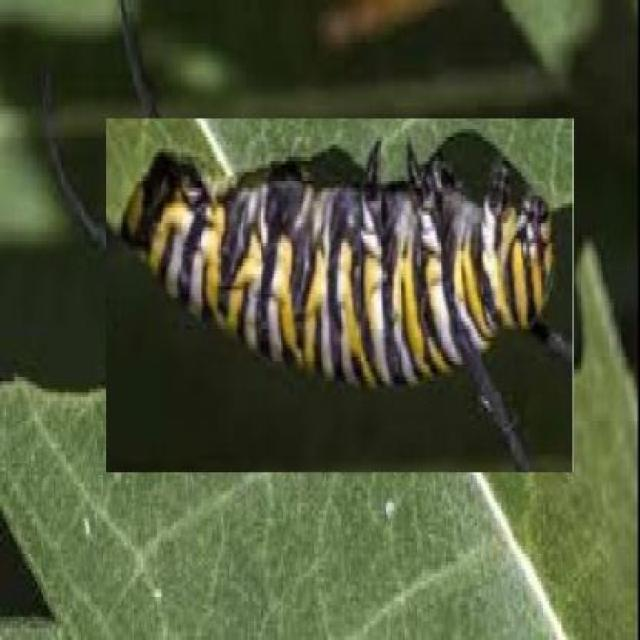Plaga: (106, 119, 575, 476)
